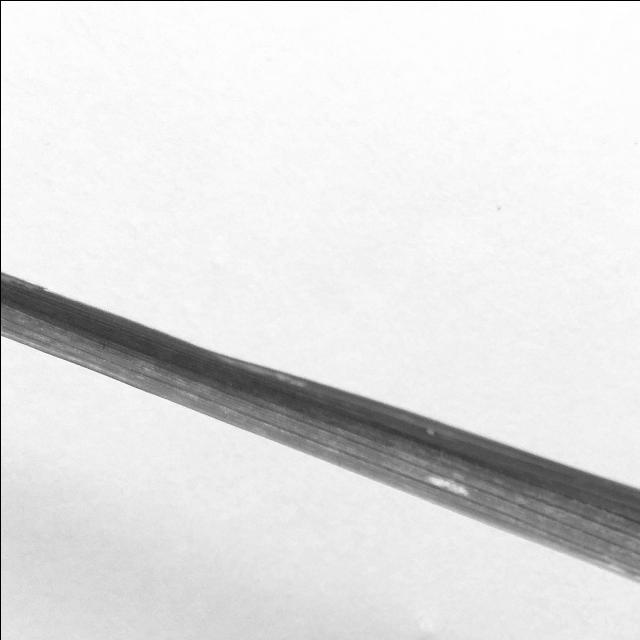Leaf_Blast: (424, 470, 474, 493)
